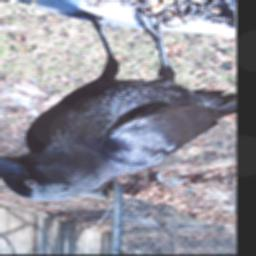Crow: (0, 8, 236, 201)
